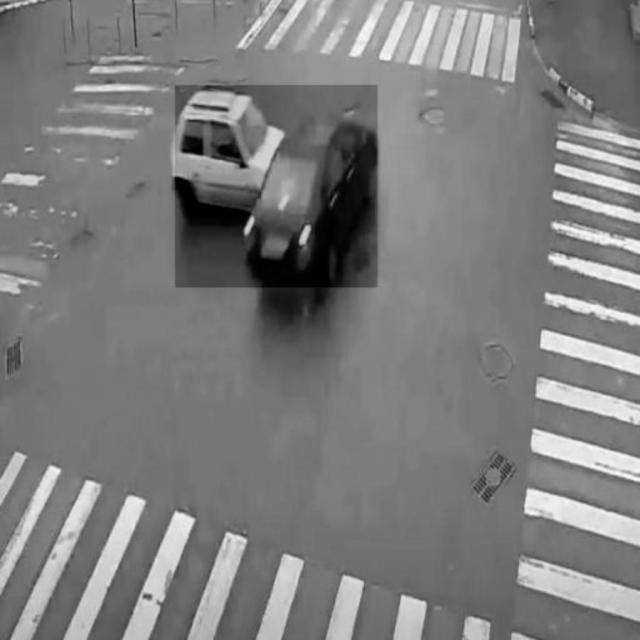accident: (175, 86, 377, 288)
